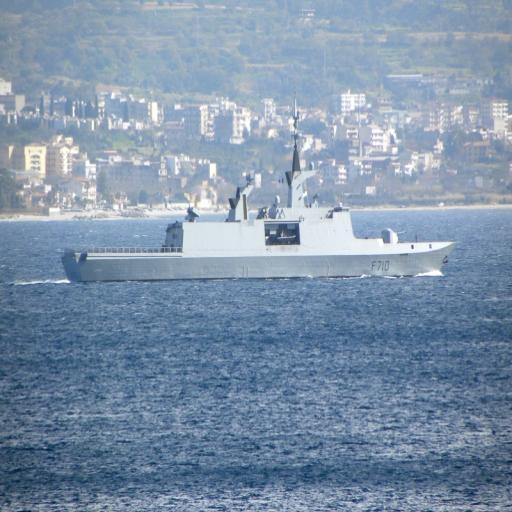Fragata: (56, 106, 459, 288)
